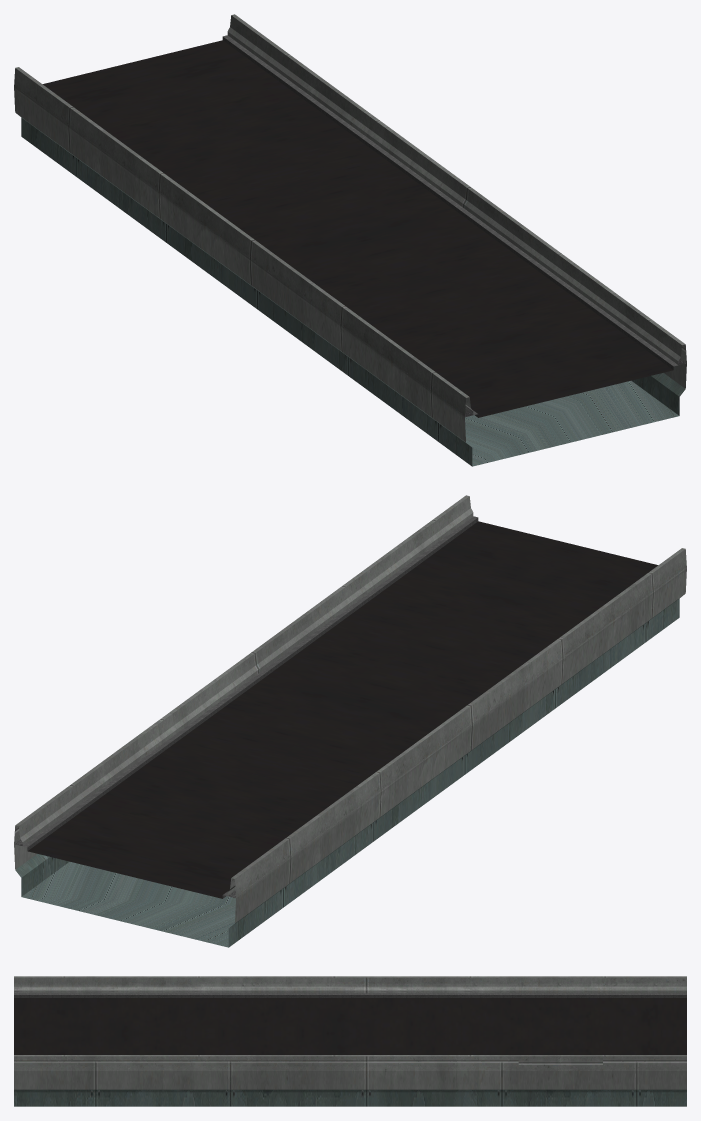
File: RJs_Road Slim 2+2 Bridge Node_lod.fbx
3 views of the same model, one above another, from view 1: azimuth 30°, elevation 25°; view 2: azimuth 150°, elevation 25°; view 3: azimuth 270°, elevation 25° (orthographic). The views are drawn at different scales.
Parts seen in each view (by area): view 1: plane_lod; view 2: plane_lod; view 3: plane_lod.
Boxes of the visible parts, x1,y1,x2,y2 form: plane_lod: [14, 14, 686, 466]; plane_lod: [14, 495, 686, 947]; plane_lod: [14, 976, 686, 1106].
Bounding box in the file's own units: 1820 × 550 × 6400.
